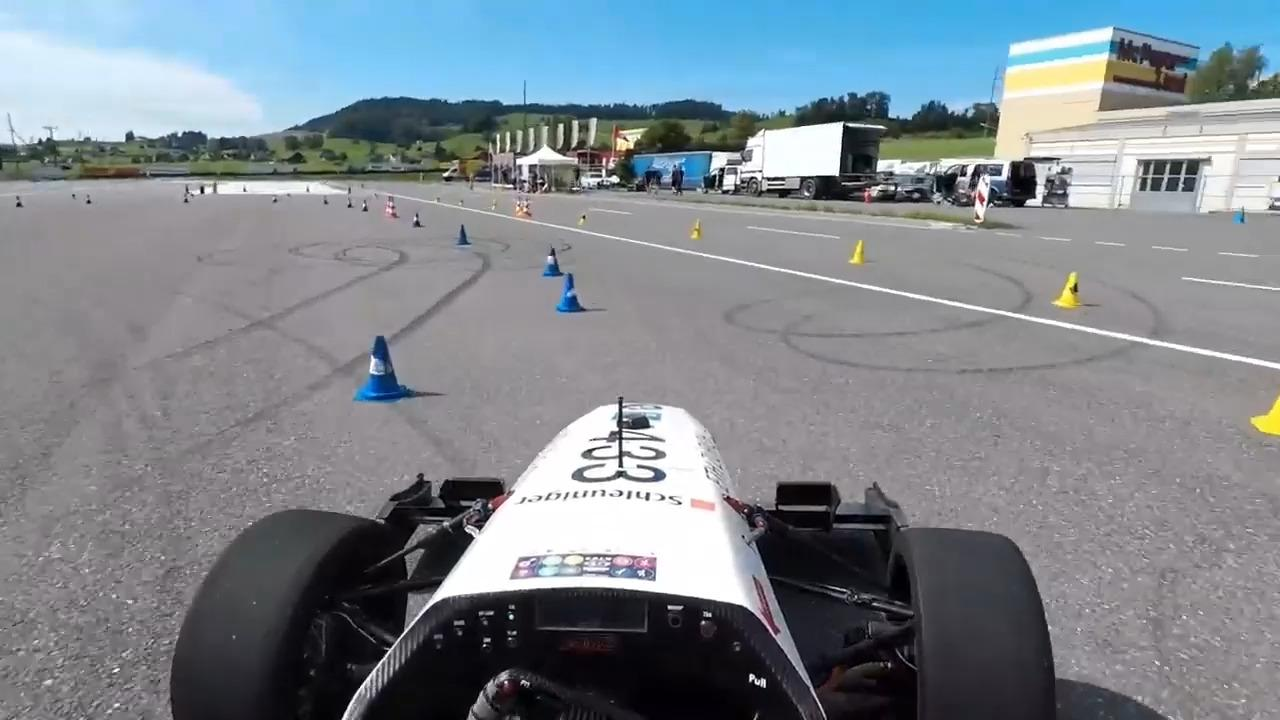blue_cone: (354, 325, 405, 399), (557, 268, 587, 313), (540, 241, 564, 278), (451, 222, 469, 247), (1233, 201, 1247, 225), (410, 211, 422, 230), (358, 197, 370, 213), (345, 195, 353, 208)
large_orange_cone: (520, 198, 534, 220), (389, 195, 398, 218), (384, 194, 393, 217), (514, 196, 523, 218)
yellow_cone: (1251, 370, 1280, 438), (1049, 270, 1088, 308), (848, 236, 866, 265), (687, 218, 702, 238), (578, 212, 588, 228)
